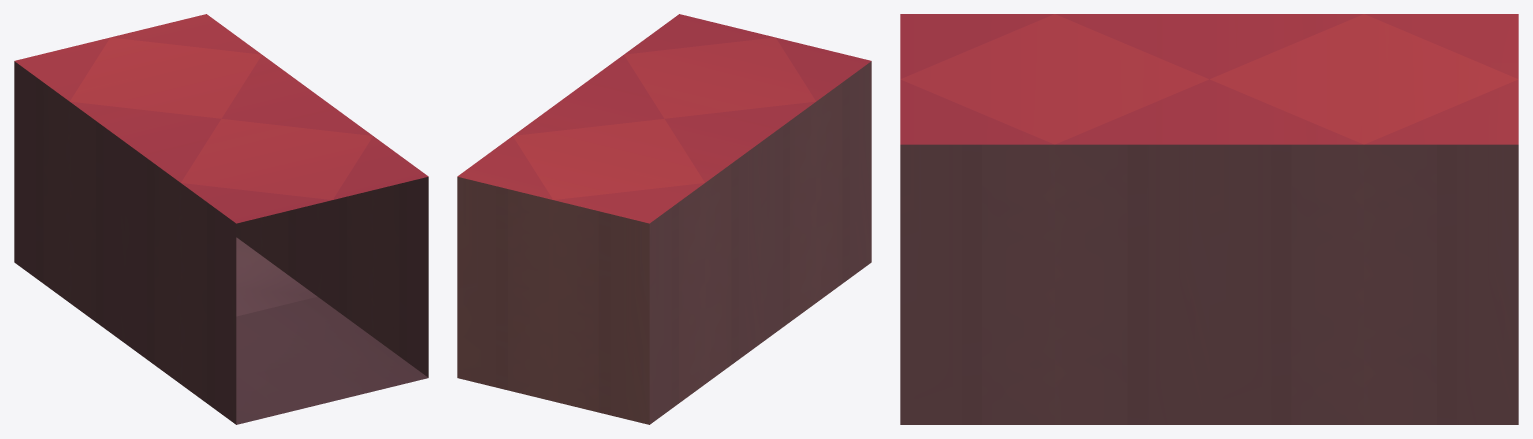
File: SM_BackGround_4_Block_Lvl2.fbx
3 views of the same model, side by side, from view 1: azimuth 30°, elevation 25°; view 2: azimuth 150°, elevation 25°; view 3: azimuth 270°, elevation 25° (orthographic). The views are drawn at different scales.
Visible parts, largest first — view 1: Base_FullF; view 2: Base_FullF; view 3: Base_FullF.
Part boxes in pixels (box(x1,y1,x2,y2)): Base_FullF: box(14, 14, 428, 424); Base_FullF: box(457, 14, 871, 424); Base_FullF: box(900, 14, 1518, 424).
Size of the model in its own units: 100 by 200 by 100.
